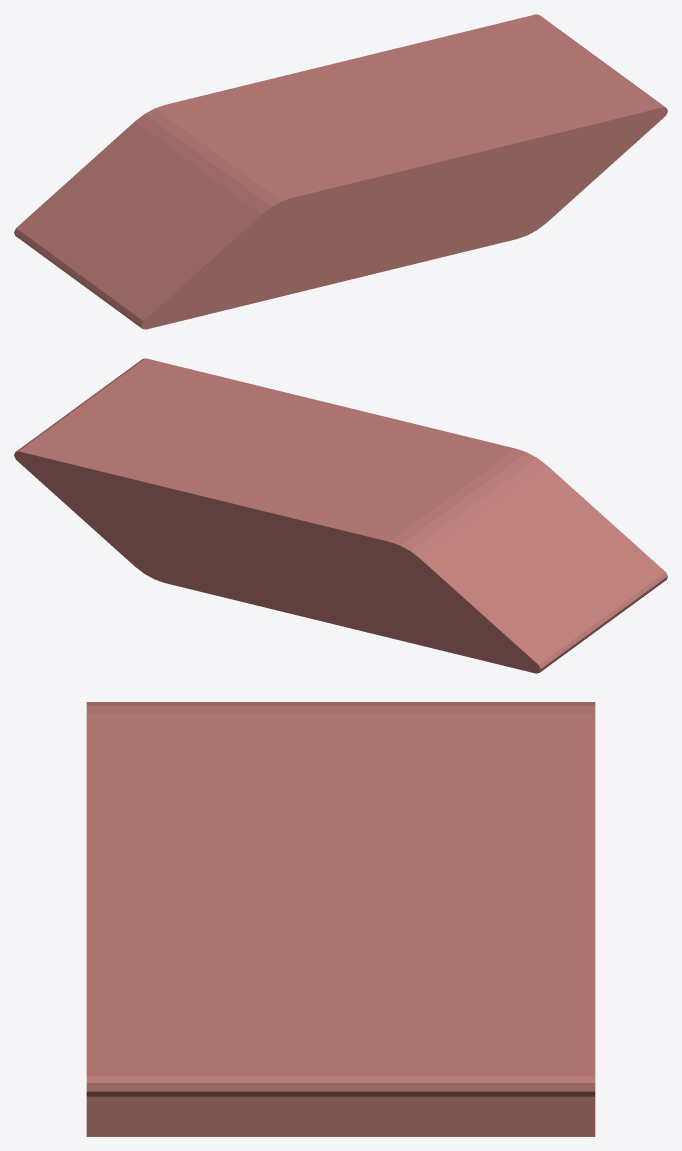
File: EinerSchudd.FBX
3 views of the same model, one above another, from view 1: azimuth 30°, elevation 25°; view 2: azimuth 150°, elevation 25°; view 3: azimuth 270°, elevation 25° (orthographic). The views are drawn at different scales.
Visible parts, largest first — view 1: Rectangle001; view 2: Rectangle001; view 3: Rectangle001.
Boxes of the visible parts, x1,y1,x2,y2 form: Rectangle001: [14, 14, 667, 329]; Rectangle001: [14, 358, 667, 673]; Rectangle001: [86, 702, 595, 1136].
Bounding box in the file's own units: 287 × 50 × 120.
